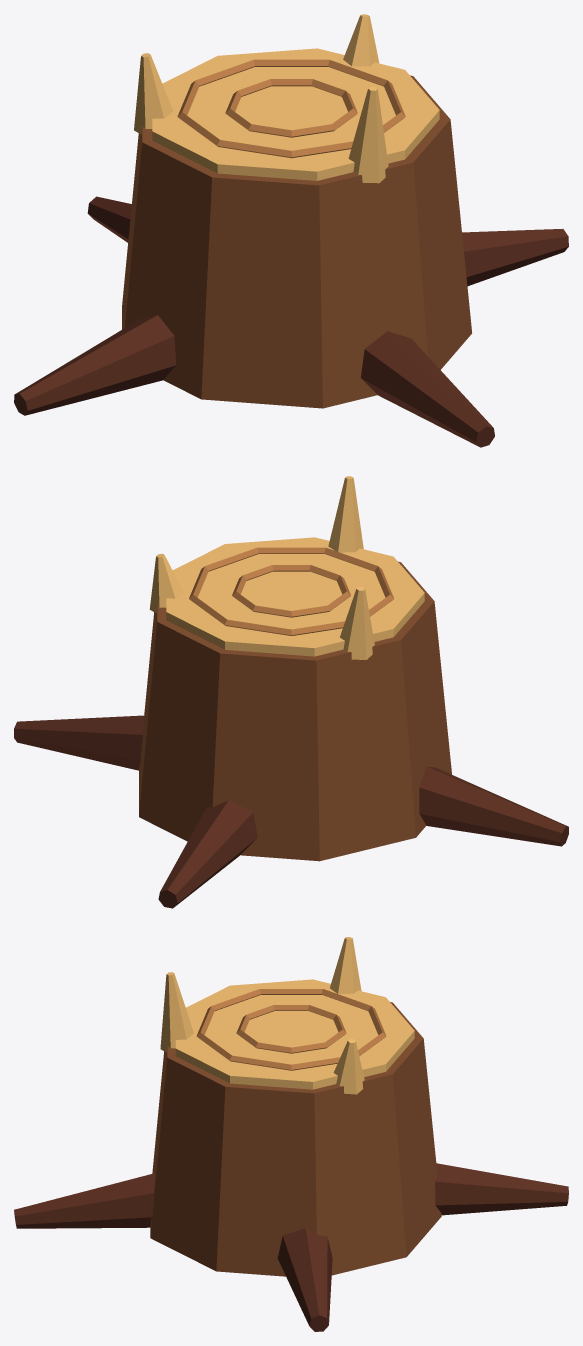
File: harvest_tree_fresh_stump.glb
3 renders of one model, top to bottom at view 1: azimuth 30°, elevation 25°; view 2: azimuth 150°, elevation 25°; view 3: azimuth 270°, elevation 25°, orthographic. The views are drawn at different scales.
Visible parts, largest first — view 1: Stump, Cut_Surface, Root_3.003, Root_4, Root_1.003, Growth_Ring_2, Fresh_Splinter_3, Growth_Ring_1, Fresh_Splinter_2, Root_2.003, Fresh_Splinter_1; view 2: Stump, Cut_Surface, Root_3.003, Root_2.003, Root_1.003, Growth_Ring_2, Growth_Ring_1, Fresh_Splinter_3, Fresh_Splinter_2, Fresh_Splinter_1; view 3: Stump, Cut_Surface, Root_4, Root_2.003, Root_1.003, Growth_Ring_2, Fresh_Splinter_3, Growth_Ring_1, Fresh_Splinter_2, Fresh_Splinter_1.
Boxes of the visible parts, <box> form: Stump: <box>122,75,471,408</box>; Cut_Surface: <box>152,48,439,180</box>; Root_3.003: <box>14,315,176,415</box>; Root_4: <box>361,331,494,447</box>; Root_1.003: <box>462,229,568,286</box>; Growth_Ring_2: <box>177,59,405,158</box>; Fresh_Splinter_3: <box>348,86,388,183</box>; Growth_Ring_1: <box>225,79,357,137</box>; Fresh_Splinter_2: <box>134,53,173,134</box>; Root_2.003: <box>87,196,131,242</box>; Fresh_Splinter_1: <box>343,14,379,66</box>; Stump: <box>139,561,451,861</box>; Cut_Surface: <box>166,537,424,656</box>; Root_3.003: <box>419,766,568,846</box>; Root_2.003: <box>158,800,257,908</box>; Root_1.003: <box>14,715,143,770</box>; Growth_Ring_2: <box>189,547,394,635</box>; Growth_Ring_1: <box>232,565,350,617</box>; Fresh_Splinter_3: <box>328,476,363,552</box>; Fresh_Splinter_2: <box>340,586,374,659</box>; Fresh_Splinter_1: <box>149,553,183,613</box>; Stump: <box>150,1002,441,1276</box>; Cut_Surface: <box>175,979,414,1089</box>; Root_4: <box>14,1173,154,1228</box>; Root_2.003: <box>435,1163,568,1215</box>; Root_1.003: <box>277,1228,332,1331</box>; Growth_Ring_2: <box>196,989,386,1070</box>; Fresh_Splinter_3: <box>160,972,193,1052</box>; Growth_Ring_1: <box>236,1005,346,1053</box>; Fresh_Splinter_2: <box>330,937,361,993</box>; Fresh_Splinter_1: <box>333,1039,364,1094</box>.
Bounding box in the file's own units: 1.92 × 0.9469 × 1.92.
